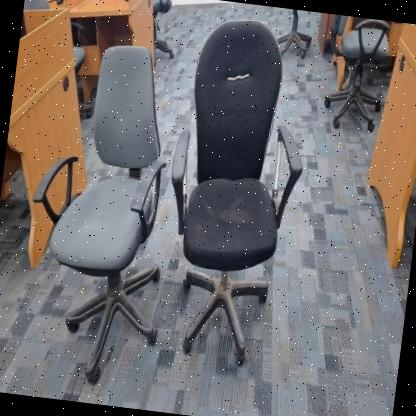chair: (143, 5, 330, 380), (6, 29, 194, 394)
